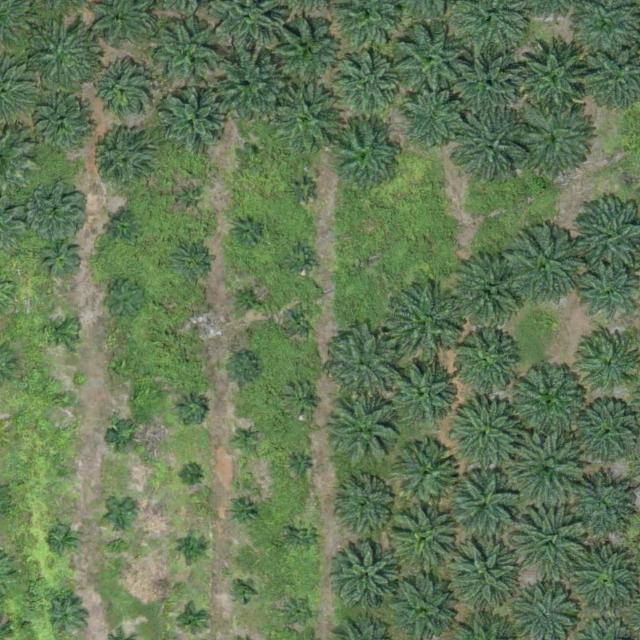Kelapa_Sawit: (25, 16, 103, 94), (148, 16, 226, 94), (208, 52, 286, 130), (263, 7, 341, 85), (388, 22, 466, 100), (451, 107, 529, 185), (513, 36, 591, 114), (515, 101, 593, 179), (503, 230, 581, 308), (389, 283, 467, 361), (508, 429, 586, 507), (509, 360, 587, 438), (443, 534, 521, 612), (510, 501, 588, 579), (327, 46, 397, 117), (397, 85, 467, 156), (453, 255, 523, 326), (390, 504, 460, 575), (159, 87, 229, 157), (271, 87, 341, 157), (329, 120, 399, 190), (450, 50, 520, 120), (327, 329, 397, 399), (333, 395, 403, 465), (447, 396, 517, 466), (446, 469, 516, 539), (31, 94, 93, 157), (89, 59, 151, 122), (87, 130, 149, 193), (577, 261, 639, 324), (391, 360, 453, 423), (395, 440, 457, 503), (28, 178, 90, 241), (575, 332, 637, 394), (574, 400, 636, 462), (565, 477, 627, 539), (453, 328, 515, 390), (335, 544, 397, 606), (338, 479, 392, 534), (99, 276, 145, 322), (48, 596, 87, 635), (223, 349, 262, 388), (172, 243, 210, 282), (41, 238, 79, 277), (288, 521, 319, 552), (176, 531, 207, 562), (106, 497, 137, 528), (175, 605, 206, 636), (48, 524, 79, 555), (285, 385, 316, 416), (45, 315, 76, 346), (175, 393, 206, 424), (231, 213, 262, 244), (107, 422, 138, 453), (285, 305, 316, 336), (287, 174, 318, 205), (285, 243, 316, 274), (233, 282, 264, 313), (172, 183, 203, 214), (236, 140, 267, 171), (230, 424, 261, 455), (281, 595, 312, 626), (229, 495, 260, 526), (111, 217, 134, 240), (112, 357, 135, 380), (232, 580, 255, 603), (189, 315, 204, 330), (293, 458, 308, 473), (182, 467, 197, 482), (57, 463, 72, 478), (57, 390, 72, 405)
